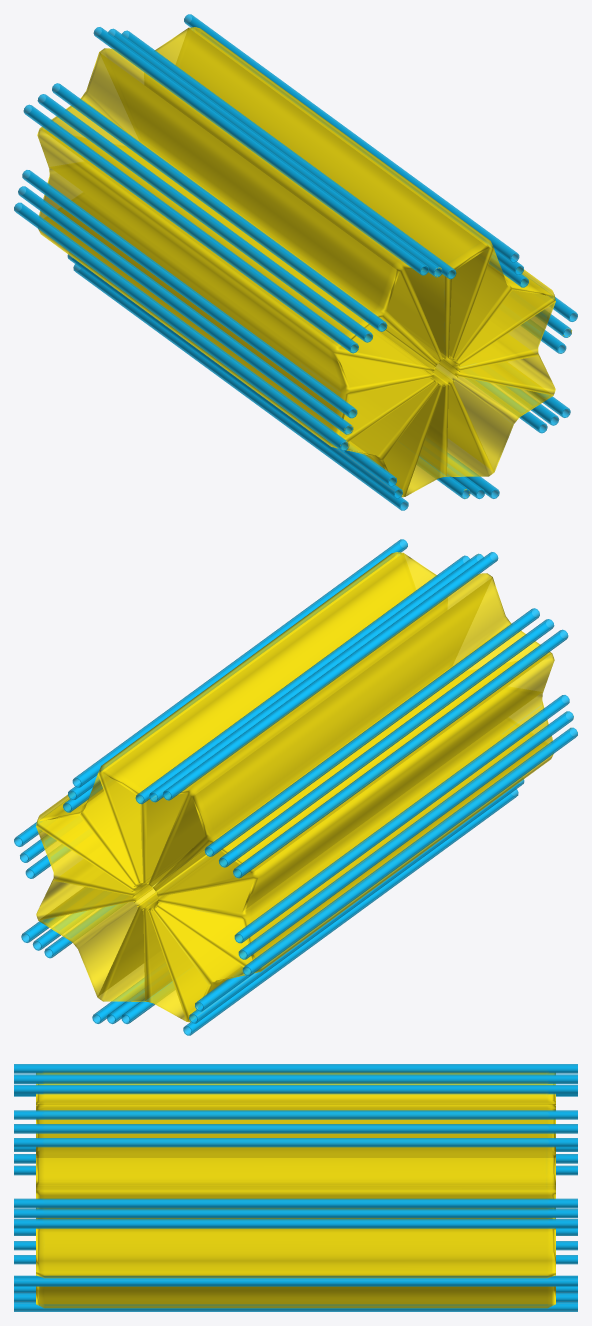
File: centriole.glb
3 views of the same model, one above another, from view 1: azimuth 30°, elevation 25°; view 2: azimuth 150°, elevation 25°; view 3: azimuth 270°, elevation 25° (orthographic). The views are drawn at different scales.
Parts seen in each view (by area): view 1: CENTRIOLE; view 2: CENTRIOLE; view 3: CENTRIOLE.
Boxes of the visible parts, x1=… form: CENTRIOLE: x1=14, y1=14, x2=577, y2=510; CENTRIOLE: x1=14, y1=539, x2=577, y2=1035; CENTRIOLE: x1=14, y1=1064, x2=577, y2=1311.
Size of the model in its own units: 0.0405 by 0.0407 by 0.096.
1 material, 1 textured.
